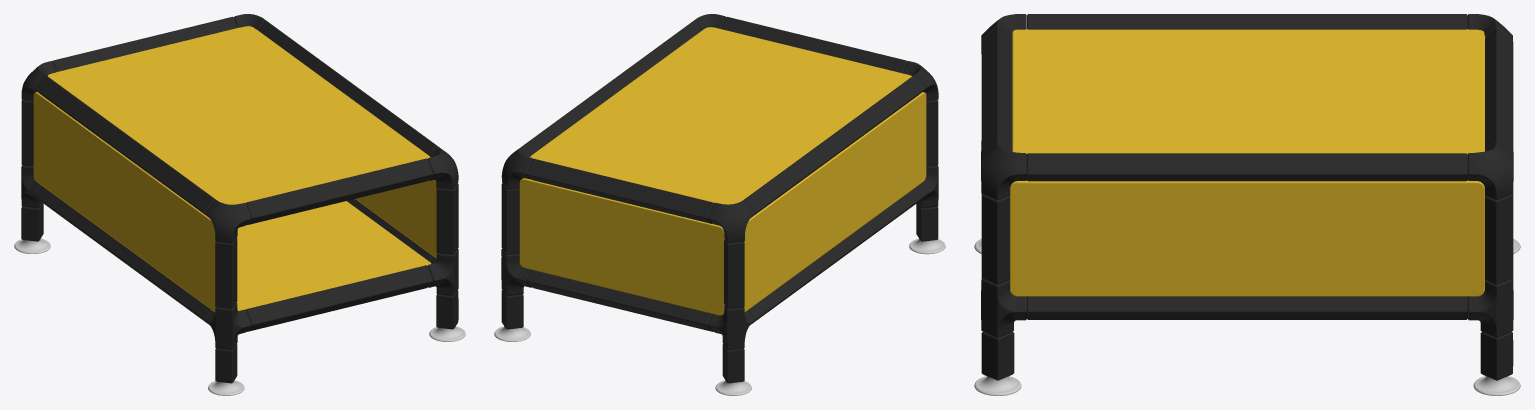
The picture shows the model from 3 angles, left to right: view 1: azimuth 30°, elevation 25°; view 2: azimuth 150°, elevation 25°; view 3: azimuth 270°, elevation 25°; orthographic projection. The views are drawn at different scales.
Visible parts, largest first — view 1: 229x374x79; view 2: 229x374x79; view 3: 229x374x79.
Boxes of the visible parts, bbox=[...] form: 229x374x79: bbox=[14, 14, 465, 395]; 229x374x79: bbox=[494, 14, 945, 395]; 229x374x79: bbox=[974, 14, 1520, 395].
Bounding box in the file's own units: 0.3188 × 0.2184 × 0.4632.
